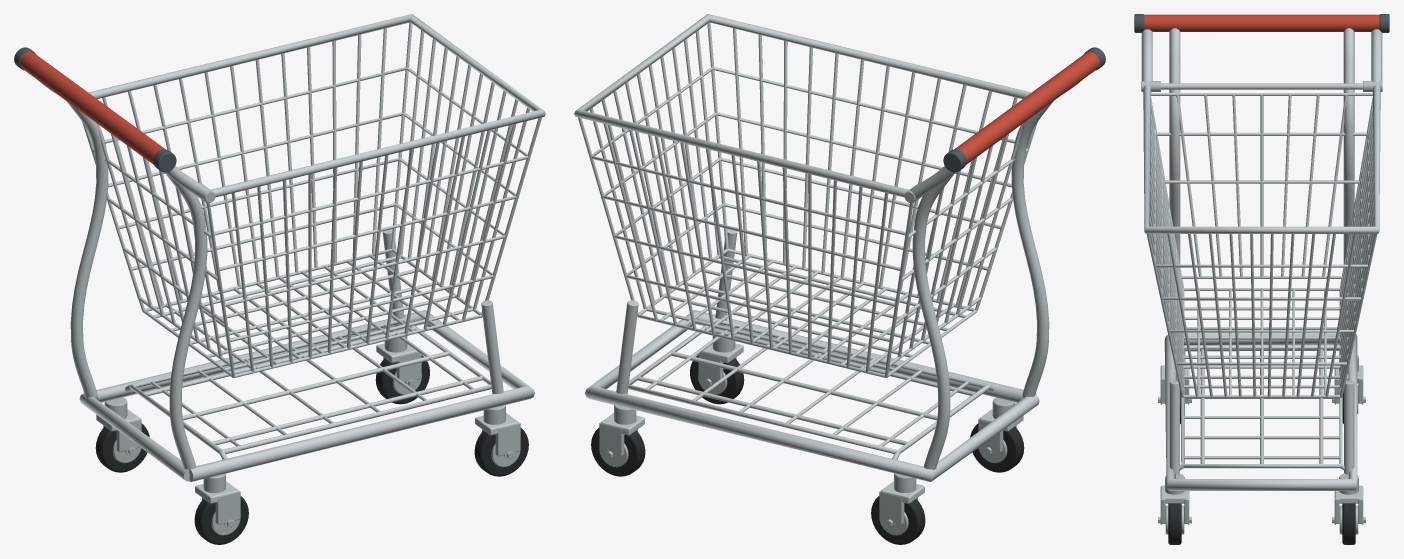
The model's file is city-shopping-trolley.glb.
The picture shows the model from 3 angles, left to right: view 1: azimuth 30°, elevation 25°; view 2: azimuth 150°, elevation 25°; view 3: azimuth 270°, elevation 25°; orthographic projection. The views are drawn at different scales.
Parts seen in each view (by area): view 1: Tapered open wire basket - chrome, Tubular trolley support chassis - chrome, Lower open wire tray - chrome, Rear nesting gate wire - chrome, Original blank trolley handle, Front right caster assembly - steel, Rear right caster assembly - steel, Front right caster assembly - tire, Rear right caster assembly - tire, Front left caster assembly - steel, Rear left caster assembly - tire, Rear left caster assembly - steel (+1 smaller); view 2: Tapered open wire basket - chrome, Tubular trolley support chassis - chrome, Lower open wire tray - chrome, Rear nesting gate wire - chrome, Original blank trolley handle, Front left caster assembly - steel, Rear left caster assembly - steel, Front left caster assembly - tire, Rear left caster assembly - tire, Front right caster assembly - steel, Rear right caster assembly - tire, Rear right caster assembly - steel (+1 smaller); view 3: Tapered open wire basket - chrome, Tubular trolley support chassis - chrome, Rear nesting gate wire - chrome, Lower open wire tray - chrome, Original blank trolley handle, Trolley handle supports - chrome, Front left caster assembly - steel, Front right caster assembly - steel, Front right caster assembly - tire, Front left caster assembly - tire, Handle end plugs - graphite, Rear left caster assembly - steel (+3 smaller).
Part boxes in pixels (bbox=[...]): Tapered open wire basket - chrome: bbox=[82, 14, 545, 377]; Tubular trolley support chassis - chrome: bbox=[66, 101, 534, 481]; Lower open wire tray - chrome: bbox=[125, 318, 491, 459]; Rear nesting gate wire - chrome: bbox=[83, 123, 233, 366]; Original blank trolley handle: bbox=[20, 52, 165, 164]; Front right caster assembly - steel: bbox=[482, 405, 520, 467]; Rear right caster assembly - steel: bbox=[202, 473, 240, 535]; Front right caster assembly - tire: bbox=[474, 427, 528, 476]; Rear right caster assembly - tire: bbox=[194, 496, 248, 544]; Front left caster assembly - steel: bbox=[383, 329, 421, 394]; Rear left caster assembly - tire: bbox=[95, 423, 149, 472]; Rear left caster assembly - steel: bbox=[103, 397, 141, 463]; Tapered open wire basket - chrome: bbox=[574, 14, 1037, 377]; Tubular trolley support chassis - chrome: bbox=[585, 101, 1053, 481]; Lower open wire tray - chrome: bbox=[628, 318, 993, 459]; Rear nesting gate wire - chrome: bbox=[886, 123, 1036, 366]; Original blank trolley handle: bbox=[954, 52, 1099, 164]; Front left caster assembly - steel: bbox=[599, 405, 637, 467]; Rear left caster assembly - steel: bbox=[879, 473, 917, 535]; Front left caster assembly - tire: bbox=[591, 427, 645, 476]; Rear left caster assembly - tire: bbox=[871, 496, 925, 544]; Front right caster assembly - steel: bbox=[698, 329, 736, 394]; Rear right caster assembly - tire: bbox=[970, 423, 1024, 472]; Rear right caster assembly - steel: bbox=[978, 397, 1016, 463]; Tapered open wire basket - chrome: bbox=[1143, 84, 1380, 397]; Tubular trolley support chassis - chrome: bbox=[1164, 28, 1357, 490]; Rear nesting gate wire - chrome: bbox=[1151, 83, 1372, 278]; Lower open wire tray - chrome: bbox=[1179, 349, 1344, 470]; Original blank trolley handle: bbox=[1144, 14, 1379, 31]; Trolley handle supports - chrome: bbox=[1141, 29, 1382, 82]; Front left caster assembly - steel: bbox=[1332, 473, 1365, 534]; Front right caster assembly - steel: bbox=[1158, 473, 1191, 534]; Front right caster assembly - tire: bbox=[1168, 503, 1181, 544]; Front left caster assembly - tire: bbox=[1342, 503, 1355, 544]; Handle end plugs - graphite: bbox=[1134, 14, 1389, 32]; Rear left caster assembly - steel: bbox=[1332, 355, 1365, 413].
Size of the model in its own units: 1.02 by 1.04 by 0.645.
